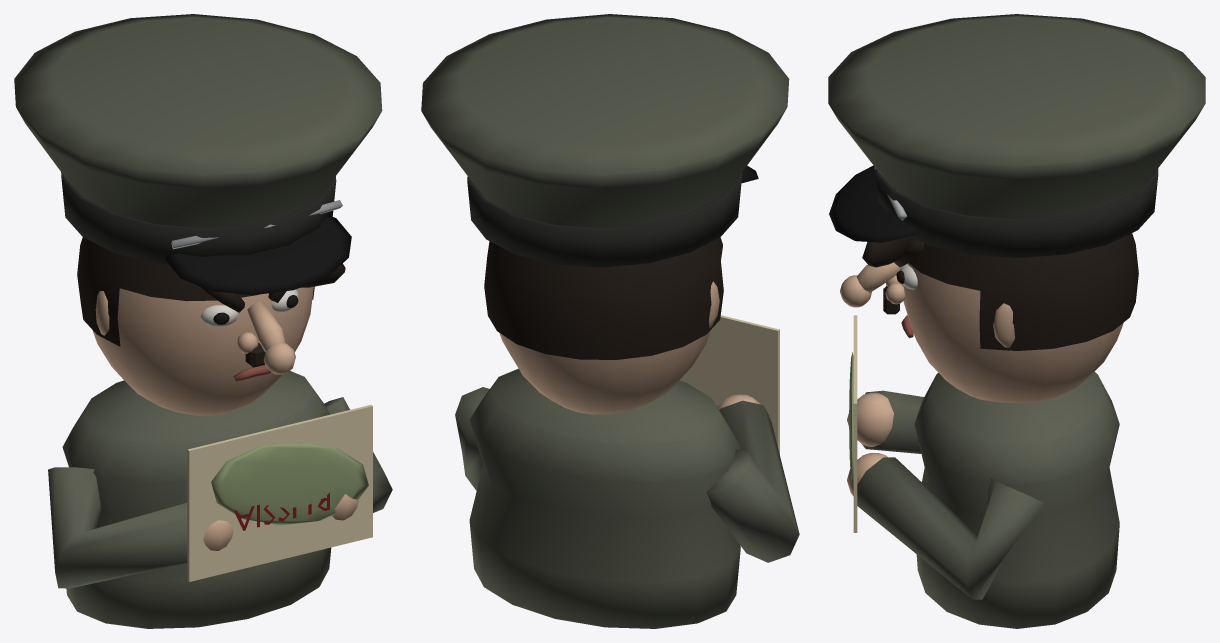
3 views of the same model, side by side, from view 1: azimuth 30°, elevation 25°; view 2: azimuth 150°, elevation 25°; view 3: azimuth 270°, elevation 25° (orthographic).
Visible parts, largest first — view 1: fig_head, fig_body; view 2: fig_head, fig_body; view 3: fig_head, fig_body.
Part boxes in pixels (x1,y1,x2,y2): fig_head: [14, 14, 382, 415]; fig_body: [48, 371, 392, 628]; fig_head: [421, 14, 789, 414]; fig_body: [455, 315, 799, 628]; fig_head: [828, 14, 1205, 402]; fig_body: [847, 315, 1119, 628].
Bounding box in the file's own units: 0.8085 × 1.14 × 0.7934.
